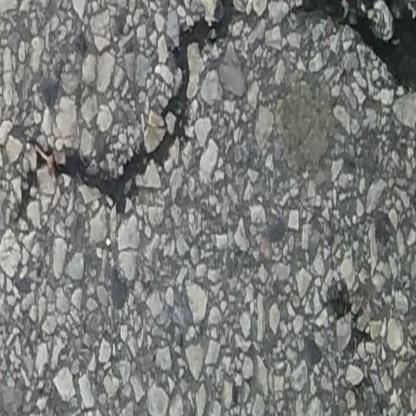Cracks: (28, 0, 247, 201), (308, 0, 416, 84)
